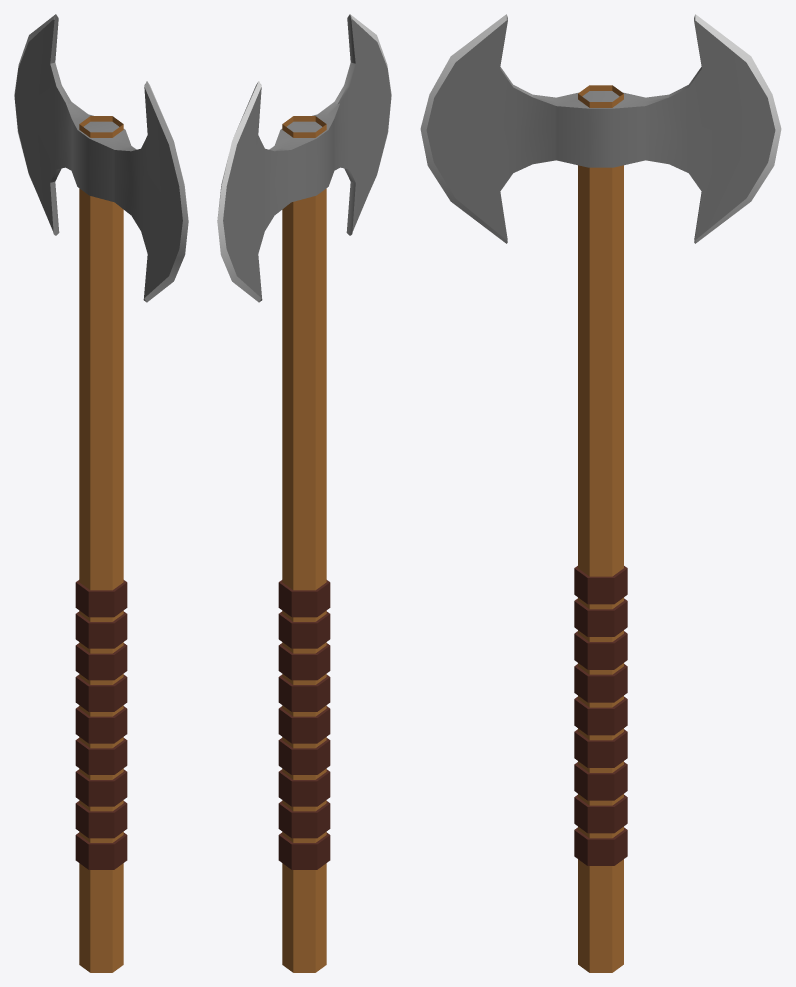
File: Axe0.glb
The picture shows the model from 3 angles, left to right: view 1: azimuth 30°, elevation 25°; view 2: azimuth 150°, elevation 25°; view 3: azimuth 270°, elevation 25°; orthographic projection. The views are drawn at different scales.
Parts seen in each view (by area): view 1: weapon_generator; view 2: weapon_generator; view 3: weapon_generator.
Part boxes in pixels (<box>): weapon_generator: <box>14,14,188,972</box>; weapon_generator: <box>217,14,391,972</box>; weapon_generator: <box>420,14,781,972</box>.
Bounding box in the file's own units: 0.0404 × 0.9151 × 0.315.
